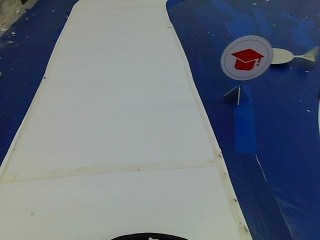school: (222, 35, 268, 83)
